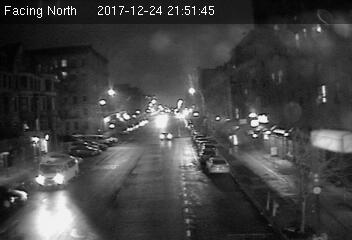car: (205, 155, 230, 172), (158, 131, 174, 140)
truck: (33, 155, 83, 187)
